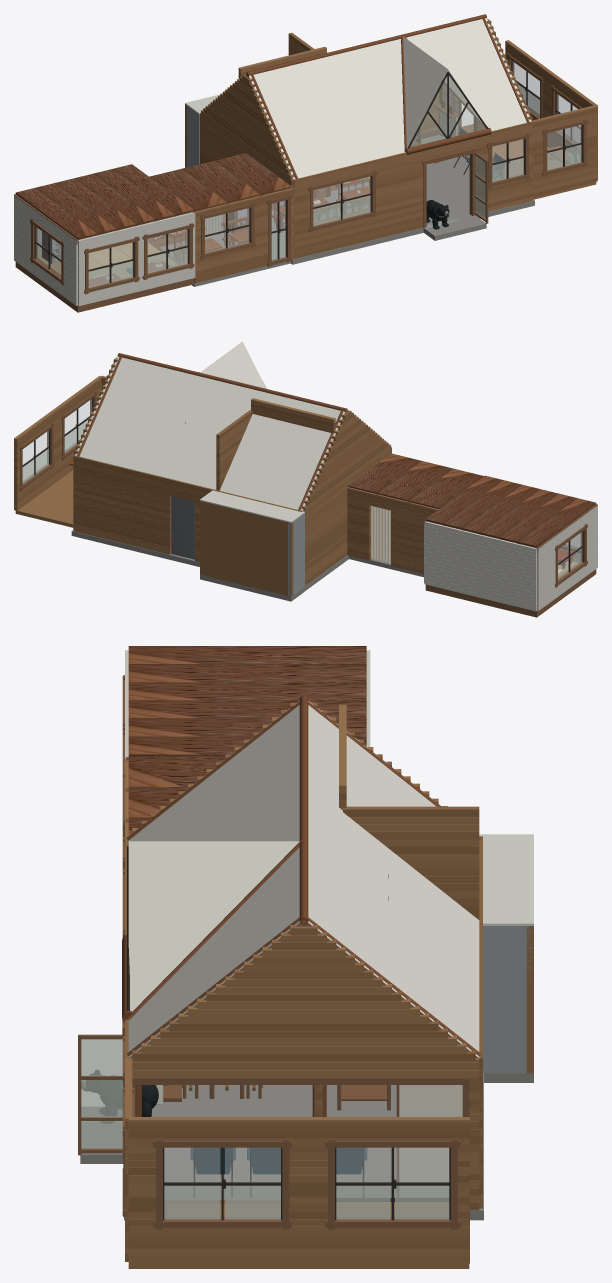
Rendered from yamanoie-illustrated.glb.
3 views of the same model, one above another, from view 1: azimuth 30°, elevation 25°; view 2: azimuth 150°, elevation 25°; view 3: azimuth 270°, elevation 25° (orthographic). The views are drawn at different scales.
Visible parts, largest first — view 1: web_roof, web_01_MAIN_SHELL, web_08_TATAMI_ROOM, web_14_BLUE_CHAIR_REAR_BAY, web_03_OPENINGS, web_07_LOW_DINING_BAY, web_04_MAIN_FURNITURE, web_15_ENTRANCE_BEAR, web_05_COUNTER_VISIBLE_KITCHEN; view 2: web_roof, web_01_MAIN_SHELL, web_08_TATAMI_ROOM, web_05_COUNTER_VISIBLE_KITCHEN, web_14_BLUE_CHAIR_REAR_BAY, web_07_LOW_DINING_BAY, web_06_EQUIPMENT_DOOR_AND_SINK; view 3: web_roof, web_14_BLUE_CHAIR_REAR_BAY, web_01_MAIN_SHELL, web_05_COUNTER_VISIBLE_KITCHEN, web_03_OPENINGS, web_04_MAIN_FURNITURE, web_15_ENTRANCE_BEAR, web_08_TATAMI_ROOM.
Part boxes in pixels (x1,y1,x2,y2): web_roof: (14,14,532,244); web_01_MAIN_SHELL: (200,84,534,264); web_08_TATAMI_ROOM: (14,194,195,312); web_14_BLUE_CHAIR_REAR_BAY: (434,40,597,199); web_03_OPENINGS: (308,71,530,232); web_07_LOW_DINING_BAY: (148,188,294,286); web_04_MAIN_FURNITURE: (272,127,505,232); web_15_ENTRANCE_BEAR: (423,200,486,240); web_05_COUNTER_VISIBLE_KITCHEN: (185,104,369,209); web_roof: (74,341,597,552); web_01_MAIN_SHELL: (71,446,391,591); web_08_TATAMI_ROOM: (424,504,597,617); web_05_COUNTER_VISIBLE_KITCHEN: (200,501,304,601); web_14_BLUE_CHAIR_REAR_BAY: (14,375,106,527); web_07_LOW_DINING_BAY: (347,487,438,577); web_06_EQUIPMENT_DOOR_AND_SINK: (171,496,194,559); web_roof: (125,646,533,1060); web_14_BLUE_CHAIR_REAR_BAY: (122,1058,469,1268); web_01_MAIN_SHELL: (124,834,483,1220); web_05_COUNTER_VISIBLE_KITCHEN: (337,926,533,1110); web_03_OPENINGS: (78,845,326,1158); web_04_MAIN_FURNITURE: (155,1085,367,1197); web_15_ENTRANCE_BEAR: (80,1070,158,1163); web_08_TATAMI_ROOM: (122,650,370,837).
Bounding box in the file's own units: 18.47 × 5.3 × 7.29.
Materials: 68 (27 with a texture image).
